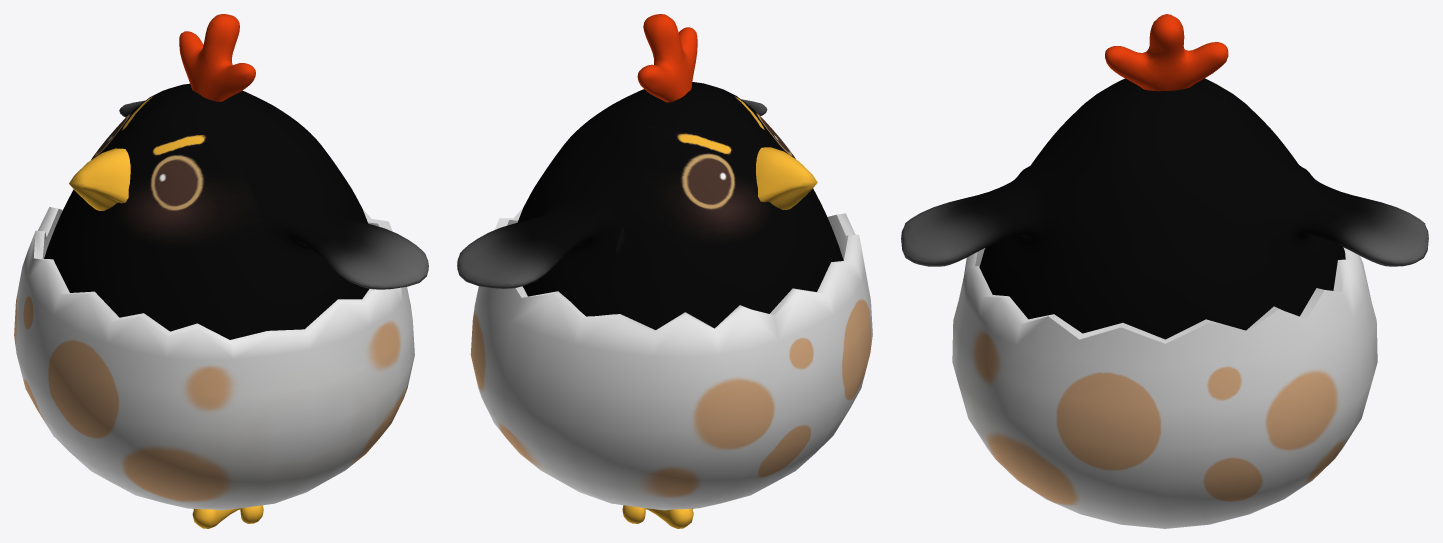
The model's file is penguin_eac715e9.glb.
3 renders of one model, left to right at view 1: azimuth 30°, elevation 25°; view 2: azimuth 150°, elevation 25°; view 3: azimuth 270°, elevation 25°, orthographic. The views are drawn at different scales.
Visible parts, largest first — view 1: character2Black; view 2: character2Black; view 3: character2Black.
Part boxes in pixels (box(x1,y1,x2,y2)): character2Black: box(14, 14, 428, 528); character2Black: box(457, 14, 872, 528); character2Black: box(901, 14, 1428, 528).
Size of the model in its own units: 211 by 284 by 271.
1 material, 1 textured.
